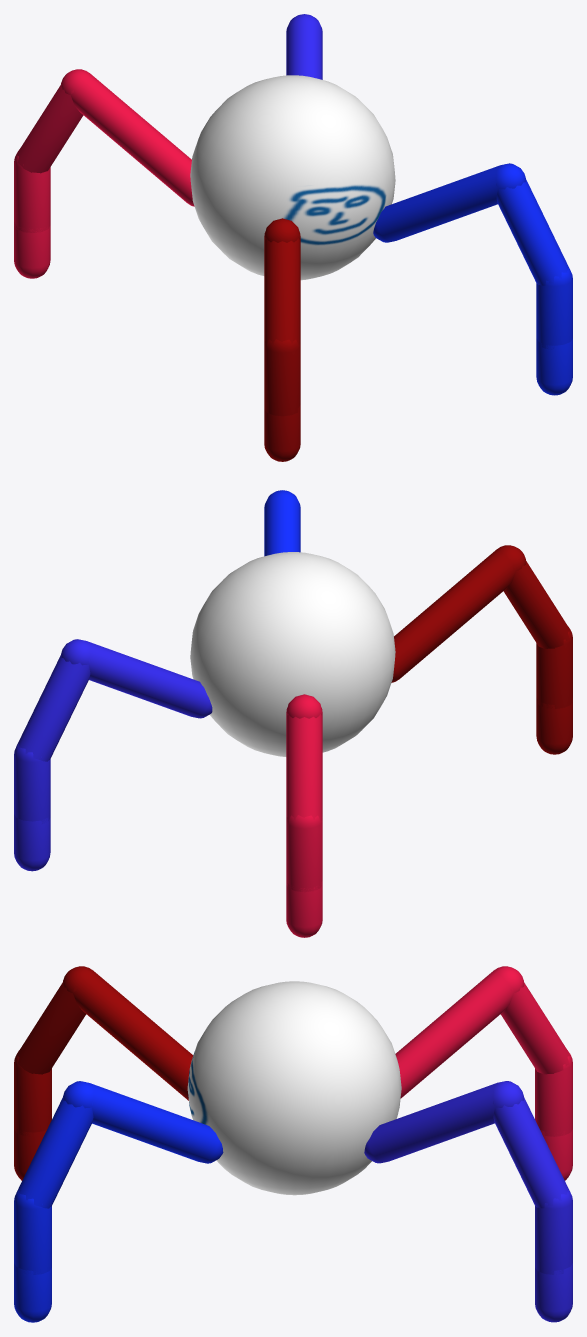
File: quadrupeSpider.fbx
The picture shows the model from 3 angles, top to bottom: view 1: azimuth 30°, elevation 25°; view 2: azimuth 150°, elevation 25°; view 3: azimuth 270°, elevation 25°; orthographic projection. The views are drawn at different scales.
Parts seen in each view (by area): view 1: Sphere001, Capsule023, Capsule013, Capsule019, Capsule014, Capsule022, Capsule027, Capsule028, Capsule026, Capsule018, Capsule015, Capsule021 (+2 smaller); view 2: Sphere001, Capsule024, Capsule018, Capsule022, Capsule016, Capsule019, Capsule026, Capsule025, Capsule027, Capsule013, Capsule017, Capsule021 (+2 smaller); view 3: Sphere001, Capsule024, Capsule023, Capsule013, Capsule018, Capsule016, Capsule014, Capsule019, Capsule022, Capsule025, Capsule028, Capsule026 (+5 smaller).
Boxes of the visible parts, x1,y1,x2,y2 form: Sphere001: (190, 75, 395, 280); Capsule023: (60, 69, 194, 206); Capsule013: (373, 163, 525, 242); Capsule019: (264, 231, 300, 345); Capsule014: (496, 179, 569, 285); Capsule022: (16, 85, 83, 173); Capsule027: (264, 339, 300, 416); Capsule028: (536, 268, 572, 349); Capsule026: (14, 149, 50, 232); Capsule018: (286, 14, 322, 79); Capsule015: (536, 338, 572, 395); Capsule021: (14, 222, 50, 278); Sphere001: (190, 552, 395, 756); Capsule024: (391, 545, 526, 682); Capsule018: (61, 639, 212, 718); Capsule022: (286, 708, 322, 821); Capsule016: (16, 655, 90, 761); Capsule019: (503, 561, 570, 648); Capsule026: (286, 815, 322, 892); Capsule025: (14, 744, 50, 823); Capsule027: (536, 626, 572, 708); Capsule013: (264, 490, 300, 556); Capsule017: (14, 814, 50, 871); Capsule021: (286, 881, 322, 937); Sphere001: (187, 981, 401, 1195); Capsule024: (62, 966, 193, 1100); Capsule023: (395, 966, 524, 1098); Capsule013: (63, 1081, 223, 1163); Capsule018: (364, 1081, 523, 1163); Capsule016: (493, 1097, 569, 1208); Capsule014: (16, 1097, 93, 1208); Capsule019: (16, 982, 86, 1074); Capsule022: (500, 982, 570, 1074); Capsule025: (535, 1190, 572, 1274); Capsule028: (14, 1190, 51, 1274); Capsule026: (535, 1050, 572, 1136).
Size of the model in its own units: 65.98 by 101 by 51.94.
